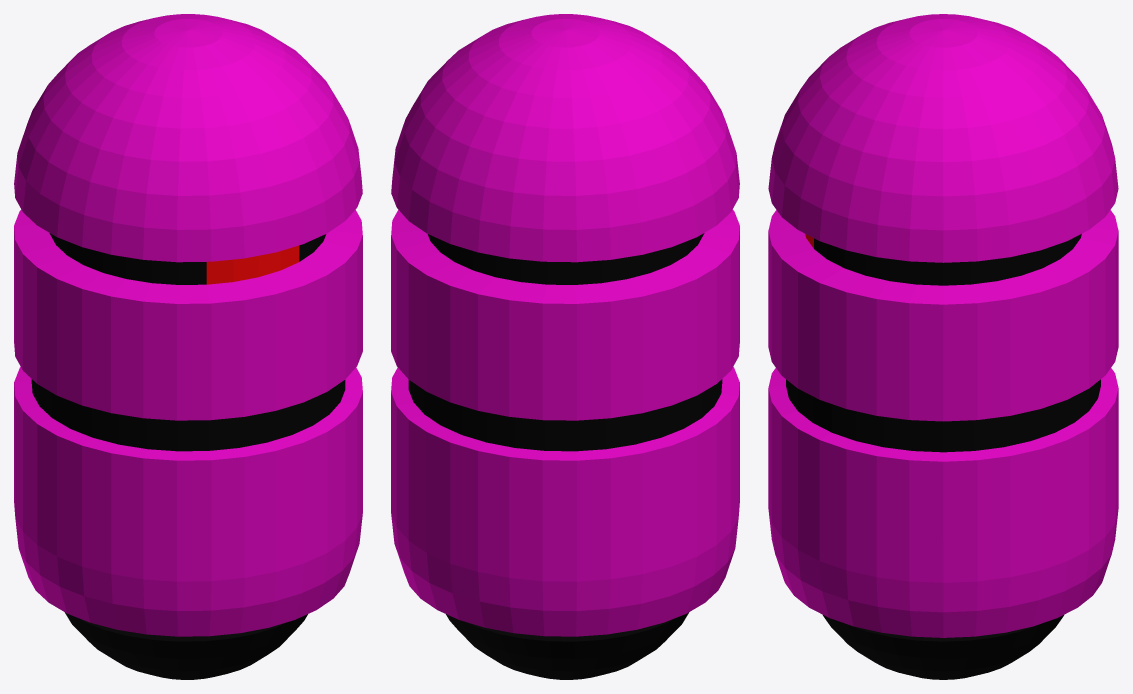
The model's file is MeleeT2.glb.
The picture shows the model from 3 angles, left to right: view 1: azimuth 30°, elevation 25°; view 2: azimuth 150°, elevation 25°; view 3: azimuth 270°, elevation 25°; orthographic projection.
Parts seen in each view (by area): view 1: Body; view 2: Body; view 3: Body.
Boxes of the visible parts, <box> form: Body: <box>14,14,362,679</box>; Body: <box>391,14,739,679</box>; Body: <box>768,14,1118,679</box>.
Bounding box in the file's own units: 1 × 2.01 × 1.
